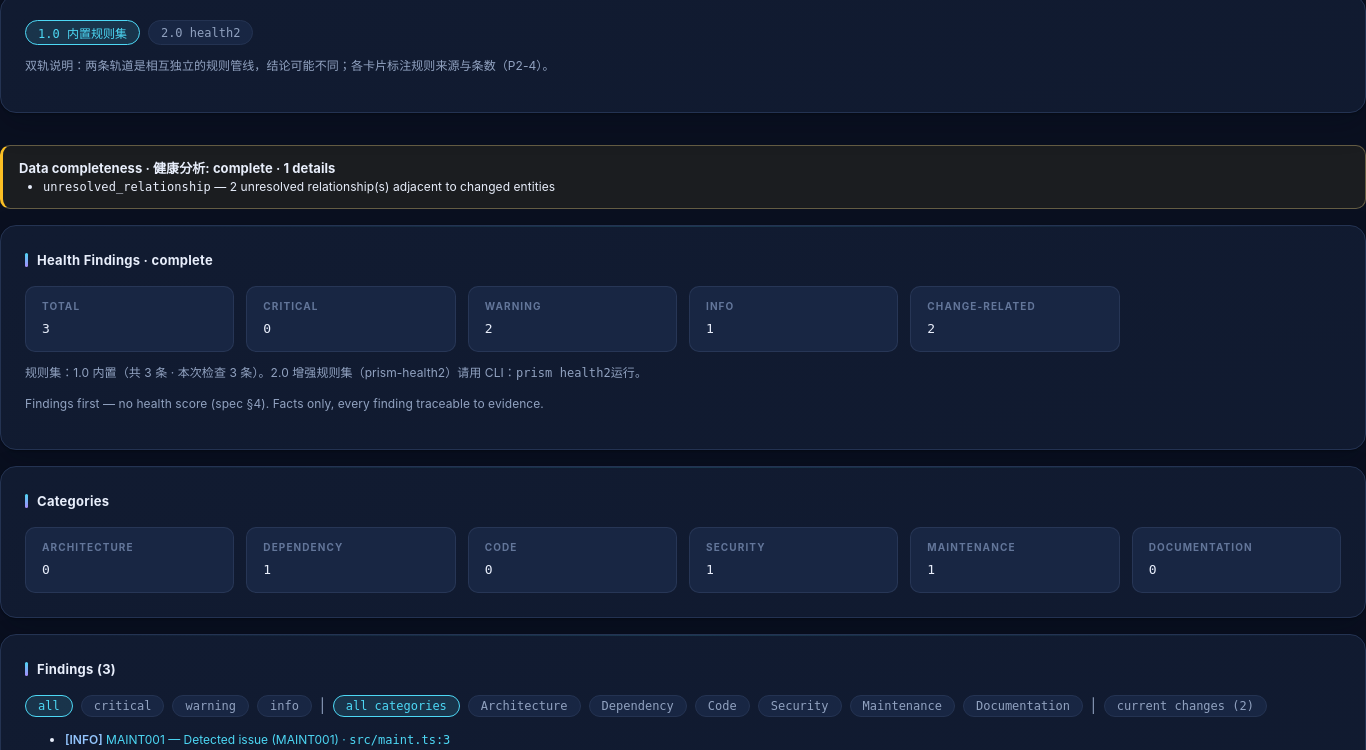
it: HealthPage (M7 GUI) › current-changes chip filters by change relation
Click the button "current changes (2)". click: click(1185, 706)
box: 1104,695 -> 1267,717
(page scrolled)
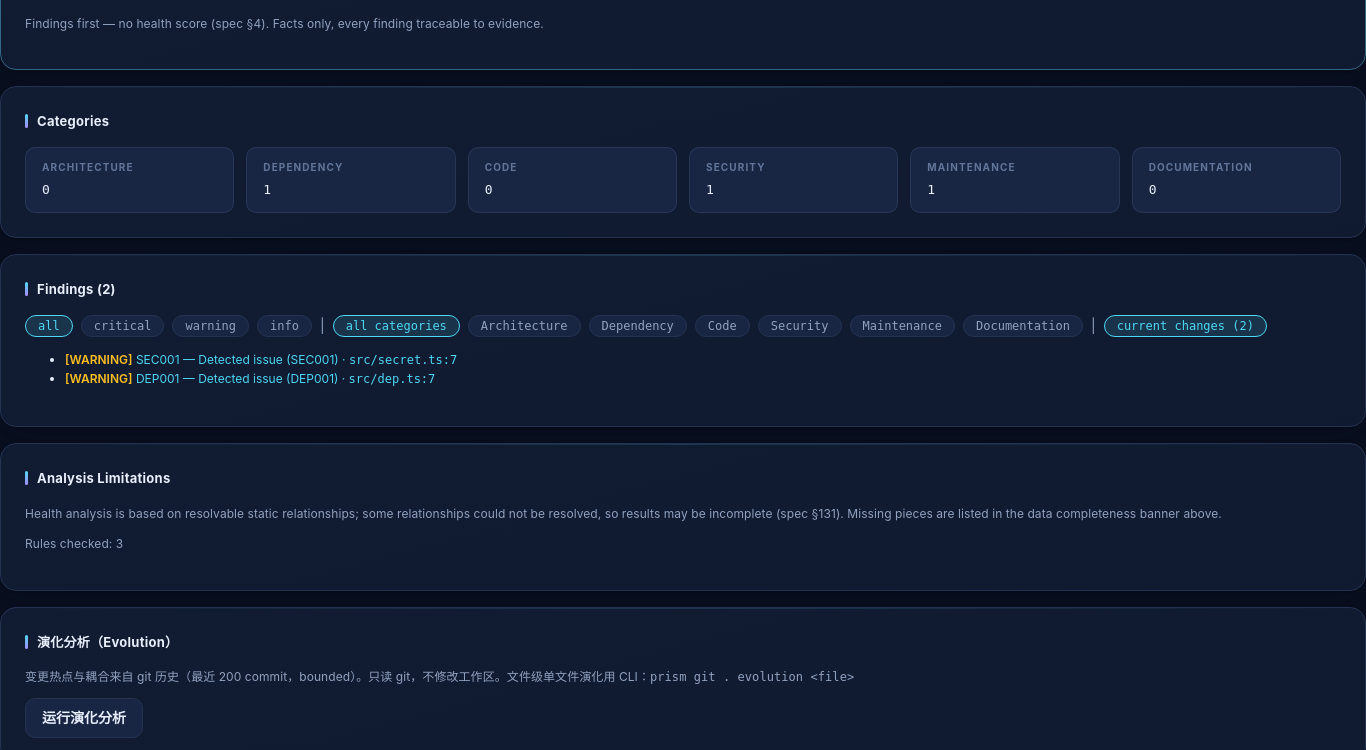
Expected: the button "[WARNING] SEC001 — Detected issue (SEC001) · src/secret.ts:7" is shown, 65,351 -> 457,370
Result: the button "MAINT001" is gone
